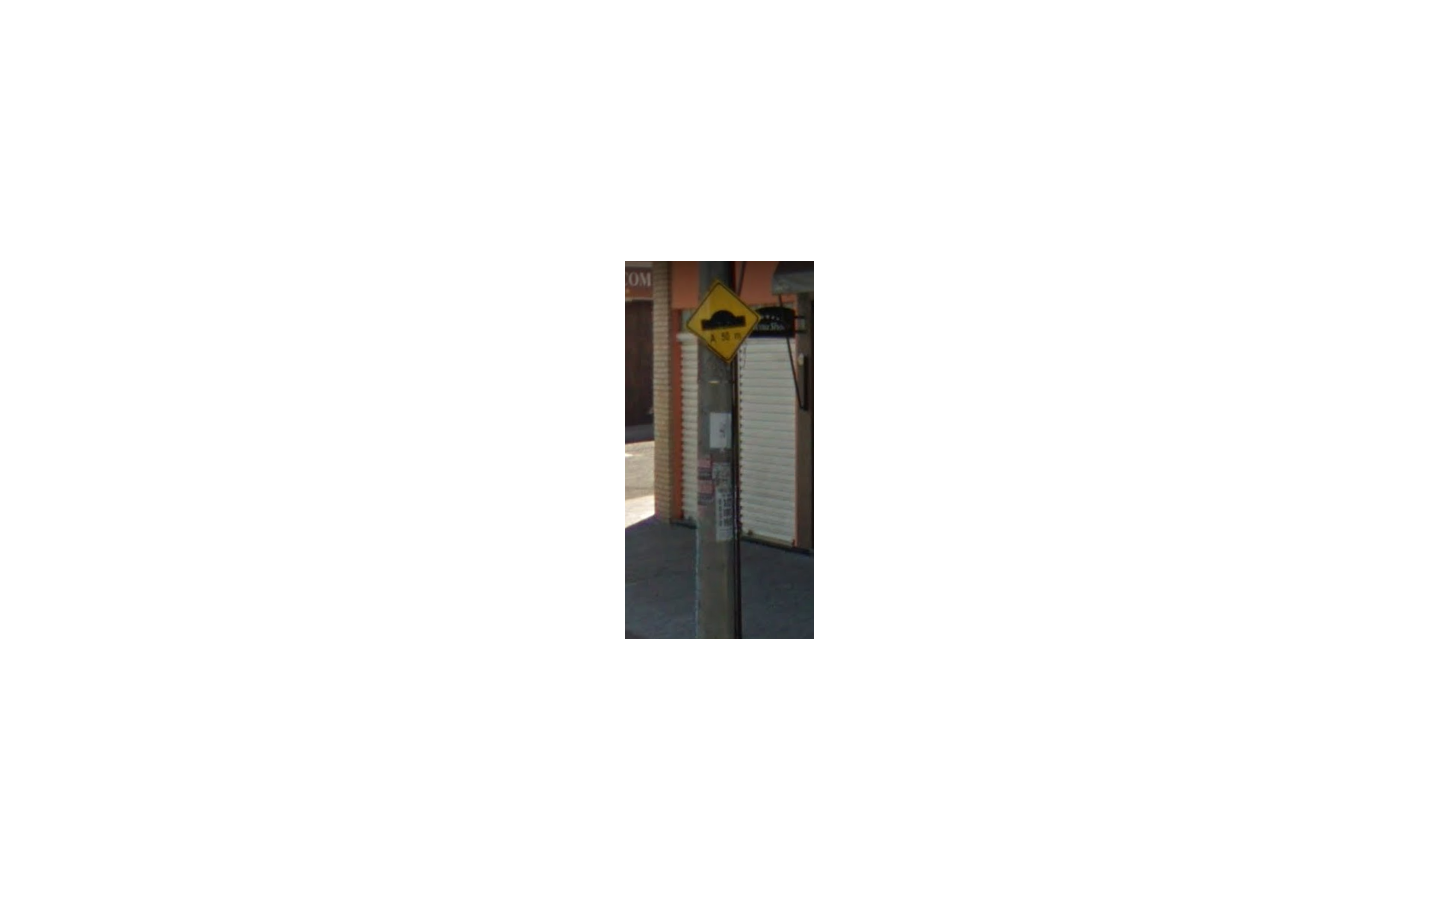l50m: (686, 281, 762, 363)
